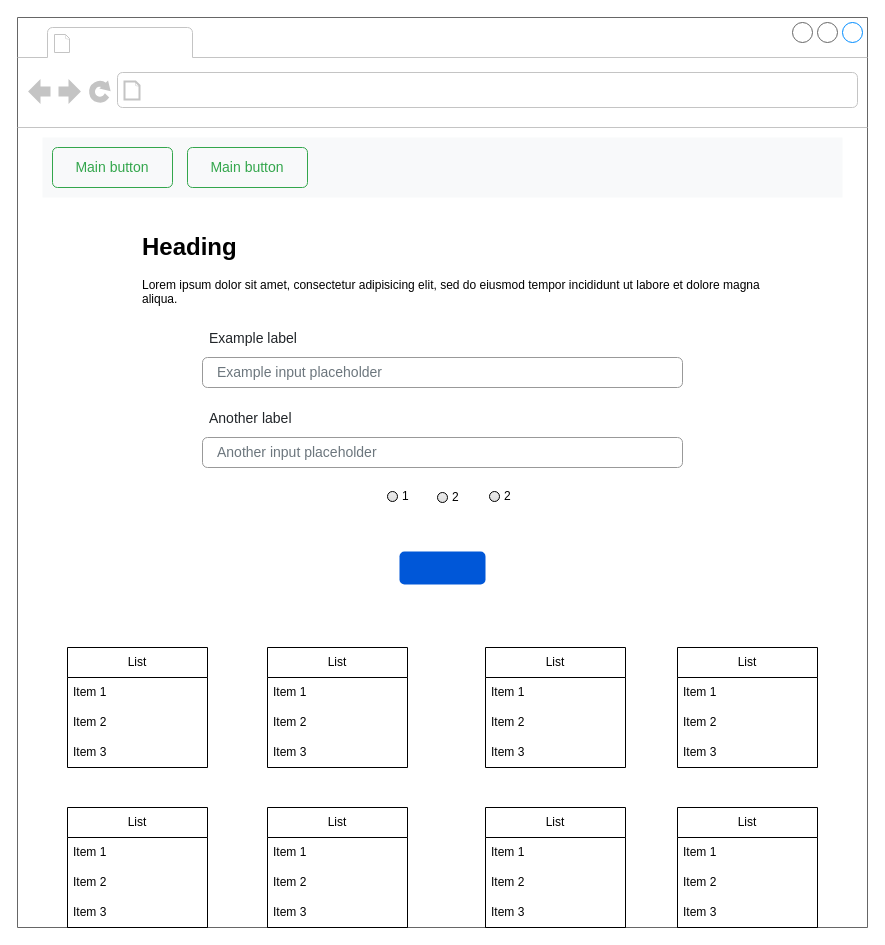
Some shapes in this 885 by 945 pixel diagram are drawn without their labels. Each missing label, with the box of its shape:
https://www.draw.io: (146, 76, 398, 104)
Page 1: (76, 28, 188, 56)
Primary: (399, 551, 485, 584)
